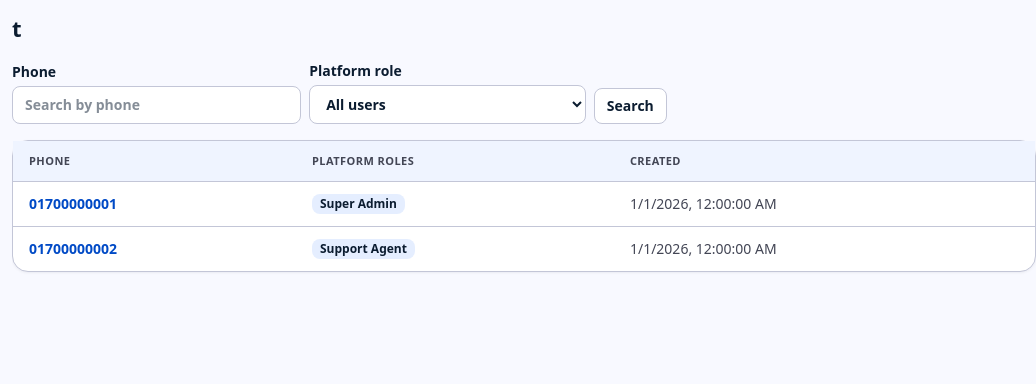
Test: UsersScreen › shows no role controls to a PLATFORM_ADMIN
Click the button "01700000002". click: (73, 249)
box: [29,239,117,259]
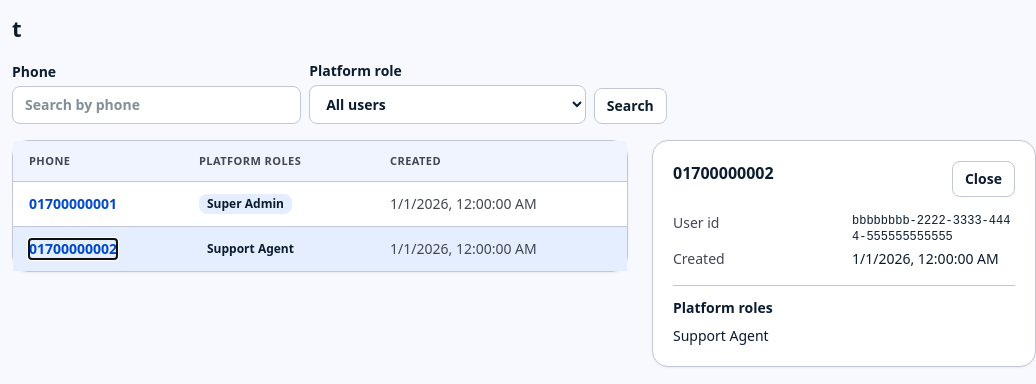
Expected: the text "Support Agent" below "User id" is shown, [673,326,769,345]
